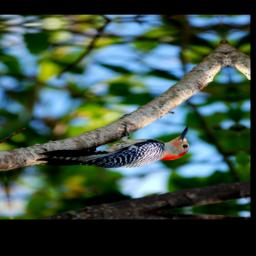Woodpecker: (30, 119, 194, 172)
